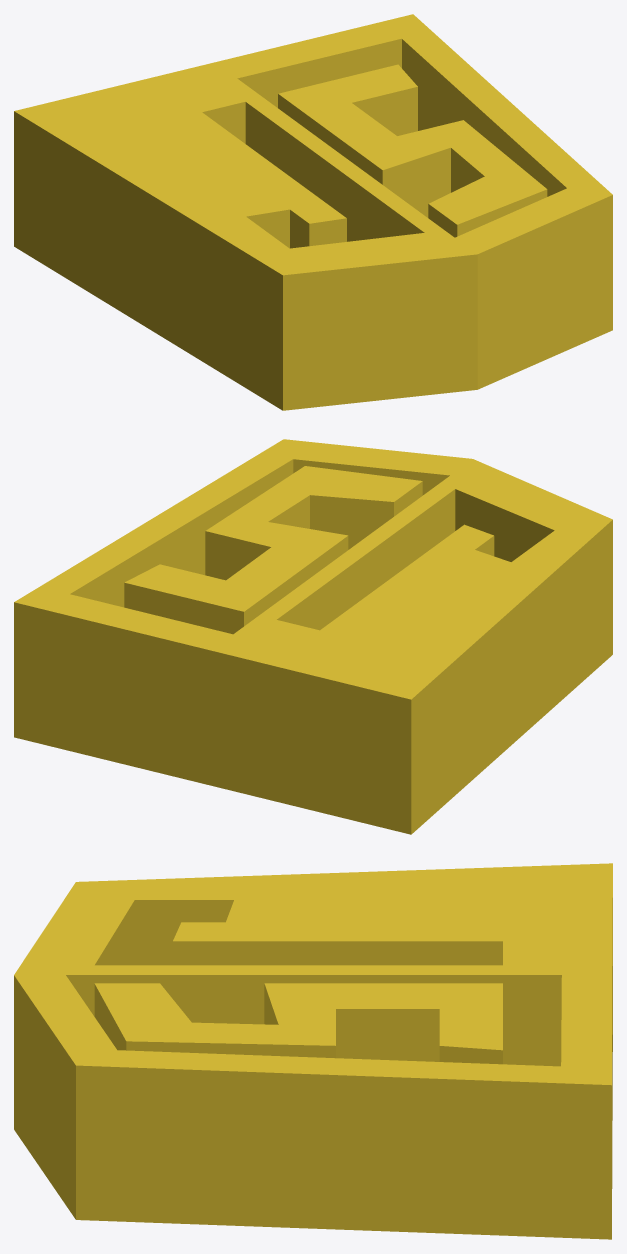
Rendered from javascript-3d.glb.
The picture shows the model from 3 angles, top to bottom: view 1: azimuth 30°, elevation 25°; view 2: azimuth 150°, elevation 25°; view 3: azimuth 270°, elevation 25°; orthographic projection. The views are drawn at different scales.
Parts seen in each view (by area): view 1: Curve; view 2: Curve; view 3: Curve.
Part boxes in pixels (x1,y1,x2,y2): Curve: (14, 14, 612, 410); Curve: (14, 439, 612, 834); Curve: (14, 863, 612, 1239).
Bounding box in the file's own units: 5.12 × 1.66 × 5.85.
